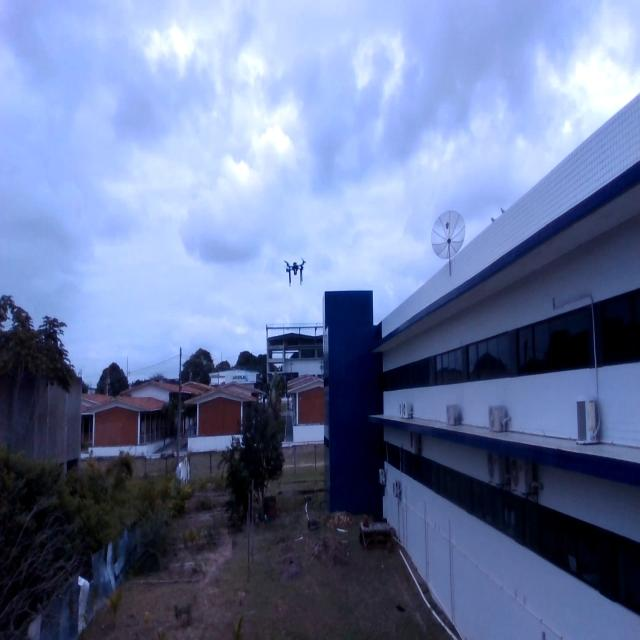-uav-: (281, 255, 309, 287)
